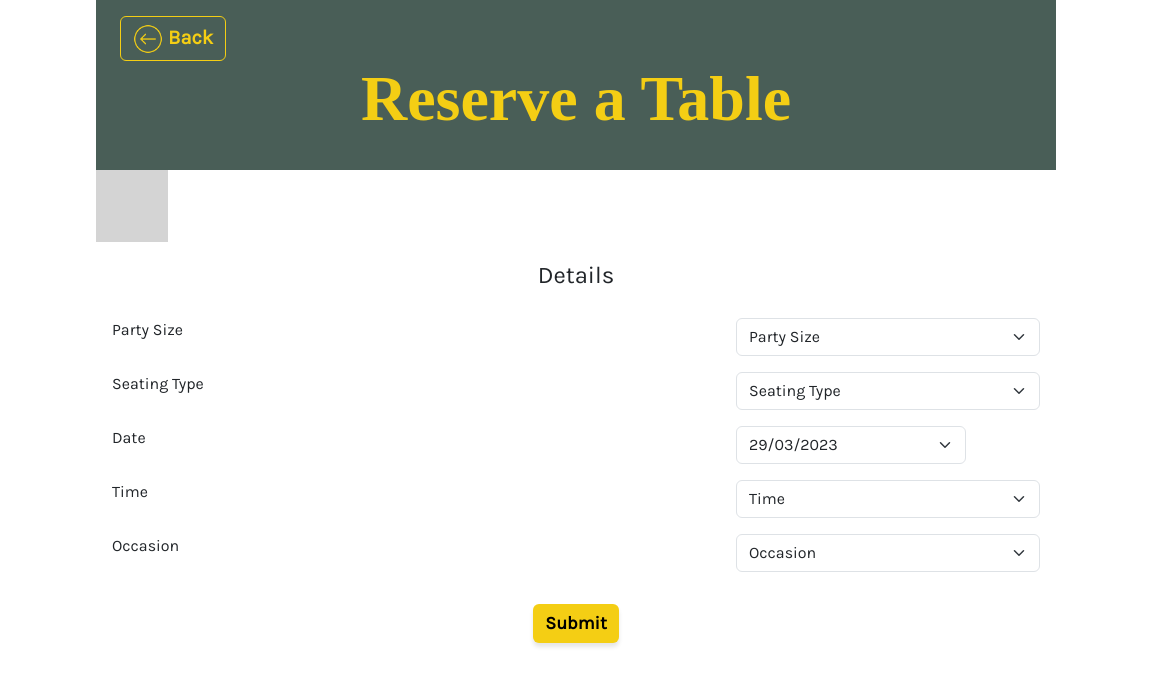
Scenario: test if validation works as expected in DetailsForm component › validateForm detects invalid partySize
Simulate an invalid input for the partySize field
Select "" in the dropdown labelled "Party Size": {"x": 888, "y": 337} [736,318,1040,356]
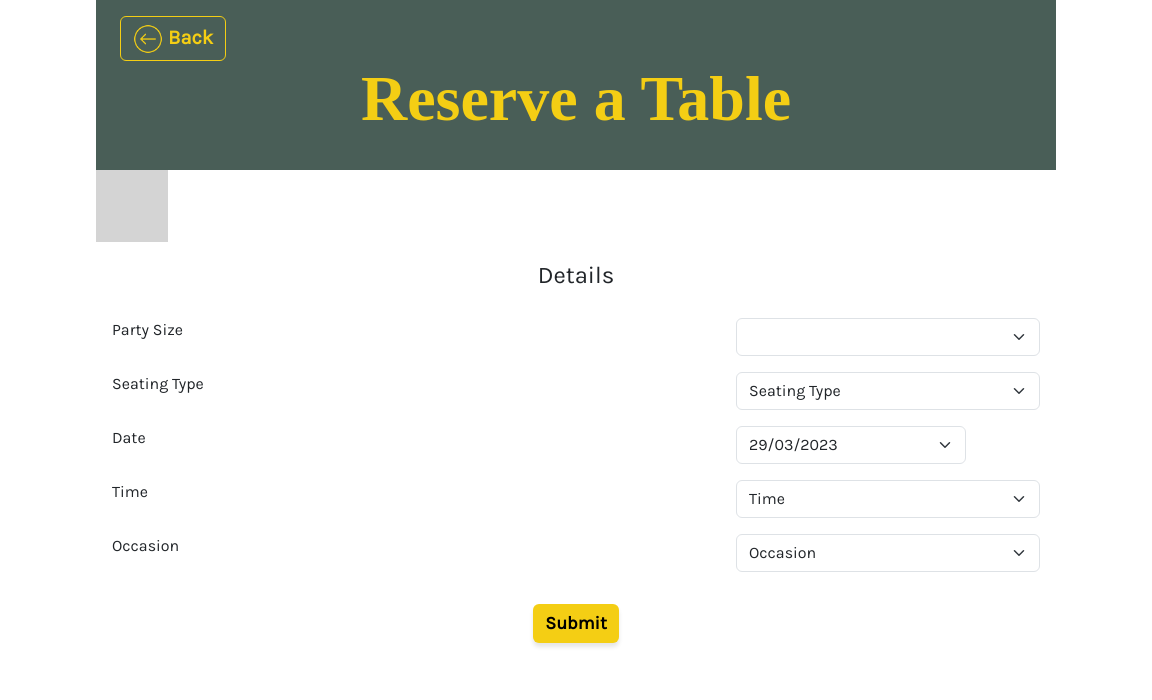
Submit the form and verify that an error message is displayed
Submit the form from the button "Submit", box [533,604,619,643]
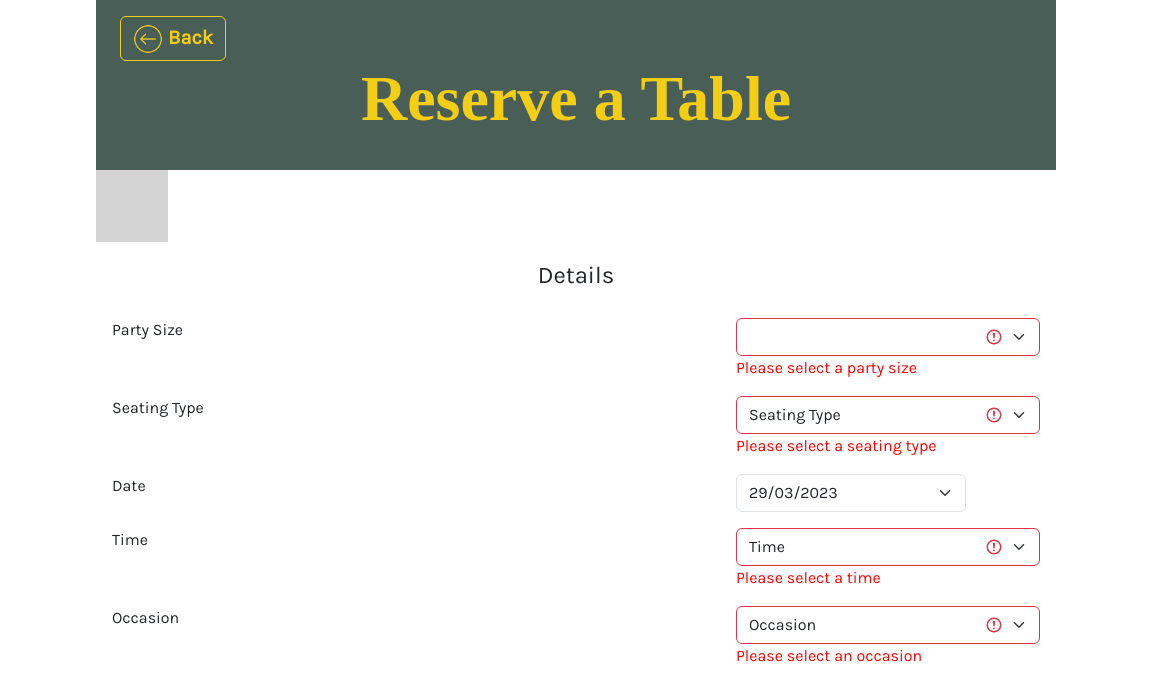
Now the text "Please select a party size" is shown, box [736,358,917,377]
